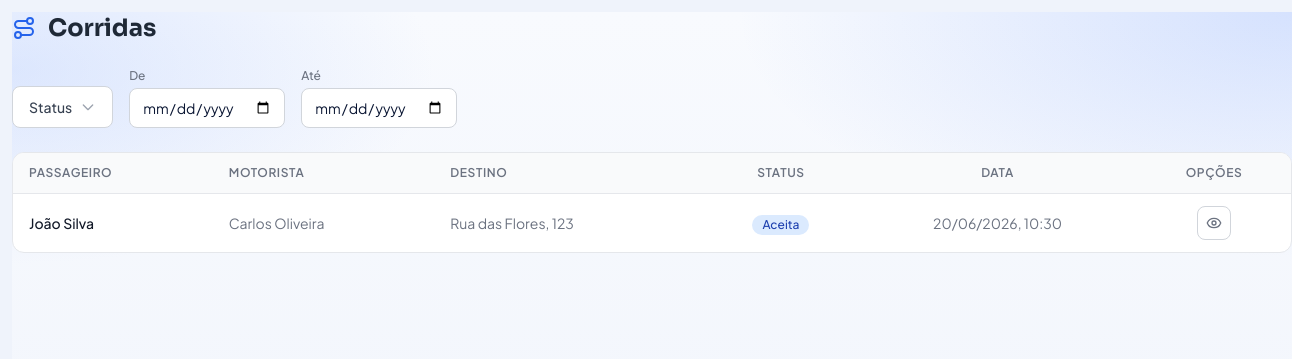
it: TravelListPage › status filter toggles checkboxes
# Click to open dropdown
Click the button "Status" at point(63, 107), box [12,86,113,128]
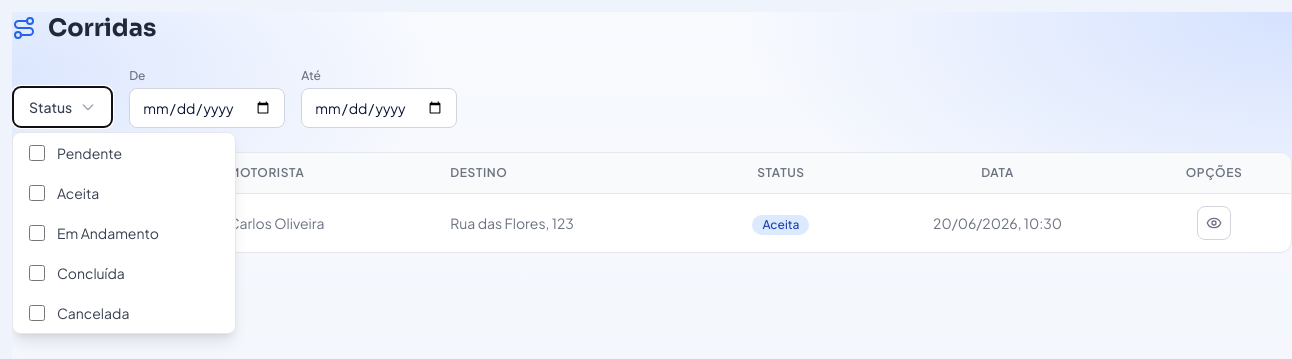
Expected: the text "Pendente" is shown, [29,144,122,162]
